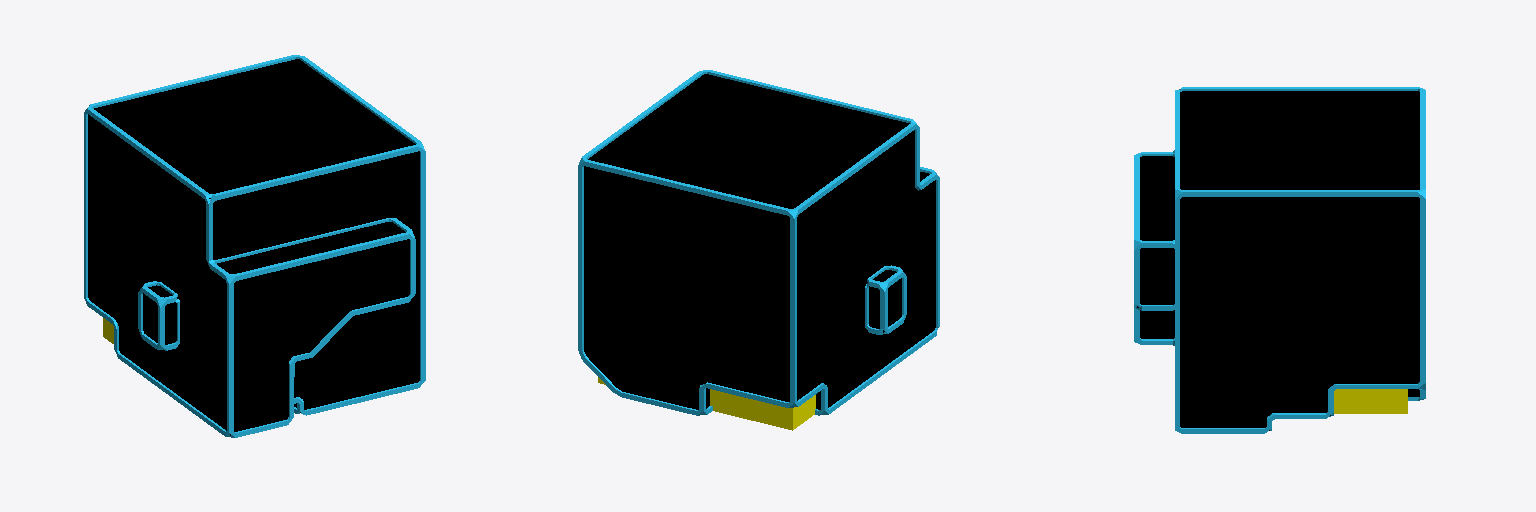
Rendered from map.obj.
The picture shows the model from 3 angles: view 1: azimuth 30°, elevation 25°; view 2: azimuth 150°, elevation 25°; view 3: azimuth 270°, elevation 25°; orthographic projection.
Parts seen in each view (by area): view 1: Cube, nocol_outline; view 2: Cube, nocol_outline, spawnzone; view 3: Cube, nocol_outline, spawnzone.
Part boxes in pixels (bbox=[...]): Cube: bbox=[88, 59, 419, 435]; nocol_outline: bbox=[84, 55, 425, 437]; Cube: bbox=[584, 74, 935, 409]; nocol_outline: bbox=[578, 70, 939, 415]; spawnzone: bbox=[598, 377, 815, 430]; Cube: bbox=[1137, 91, 1419, 430]; nocol_outline: bbox=[1134, 87, 1425, 433]; spawnzone: bbox=[1334, 389, 1407, 413].
Bounding box in the file's own units: 33.14 × 32.64 × 35.64.